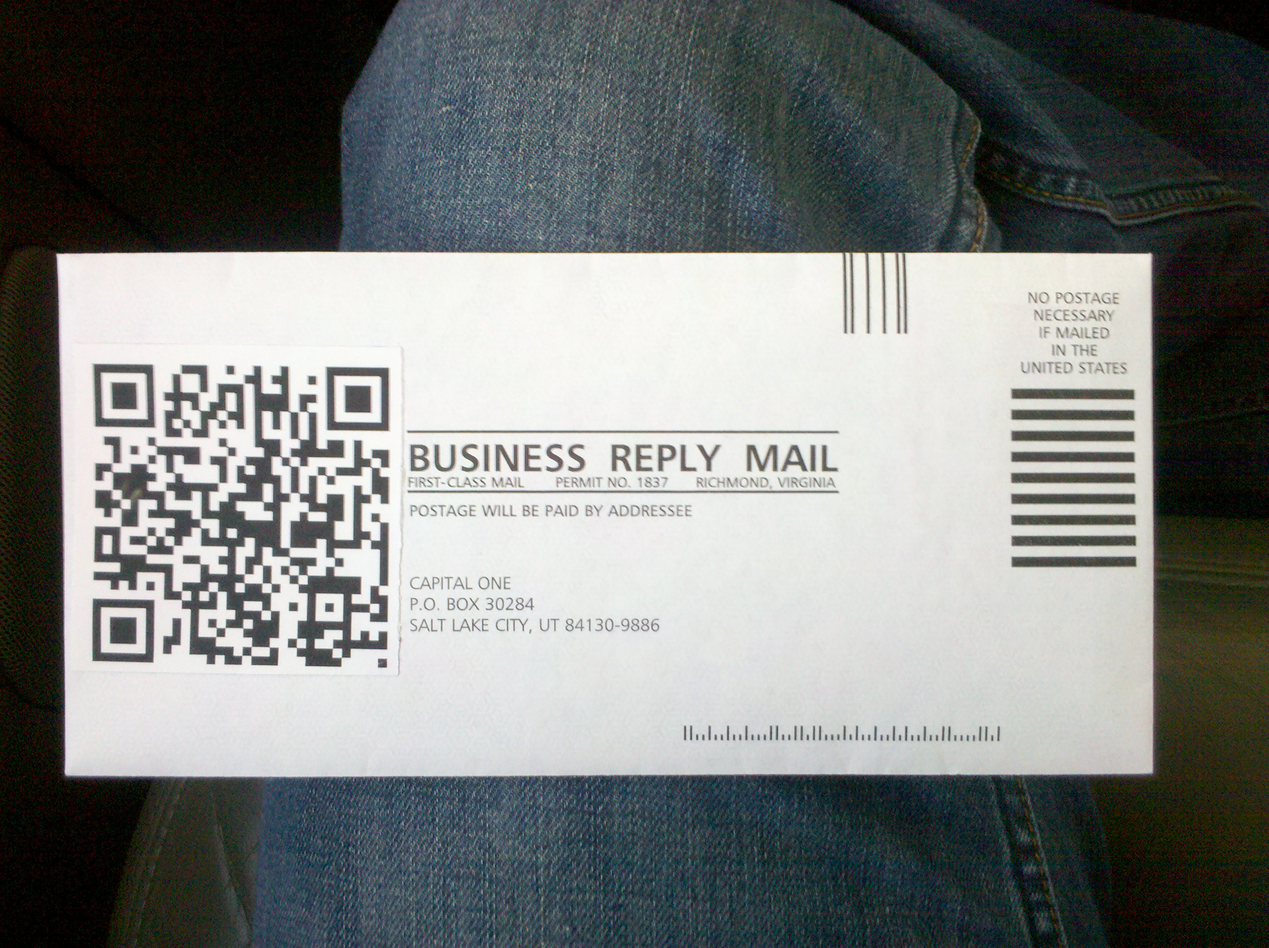QR-CODE: (93, 365, 388, 667)
